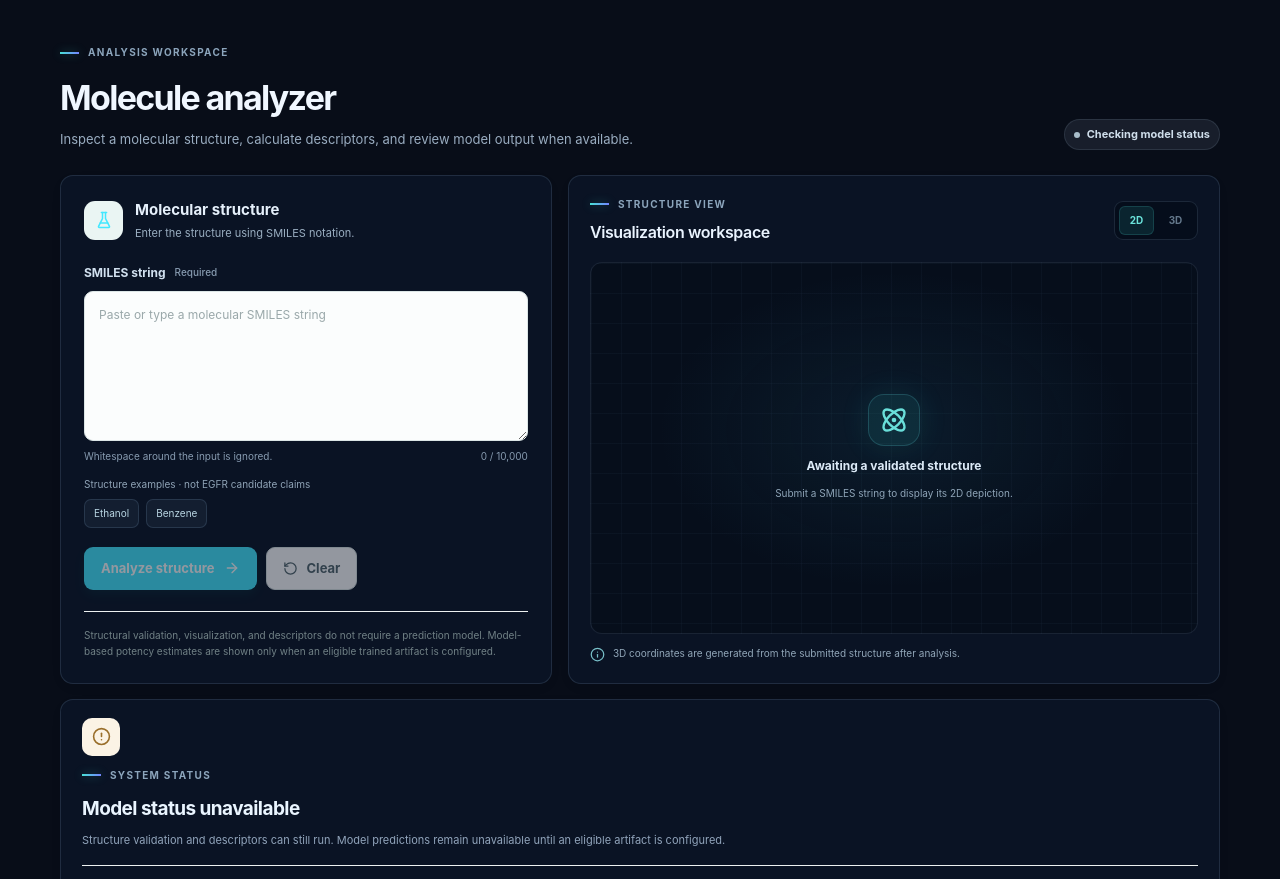
Test: AnalyzerPage › shows RDKit analysis without inventing a model prediction
This screenshot has width=1280, height=879.
Type "OCC" into the text box labelled "SMILES string Required". click: (306, 366)
box: x1=84 y1=291 x2=528 y2=441
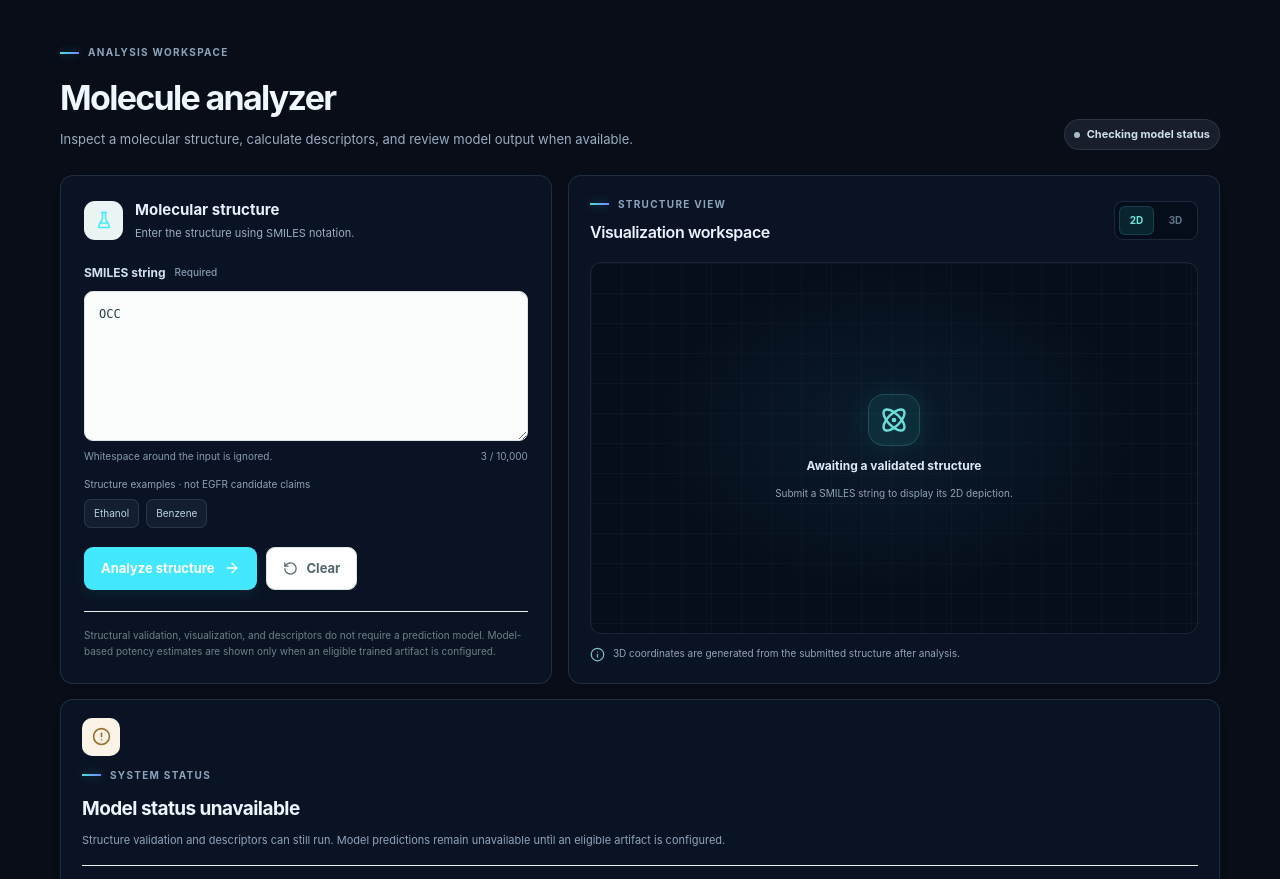
Click the button "Analyze structure". click: (170, 568)
box: x1=84 y1=547 x2=256 y2=590
(page scrolled)
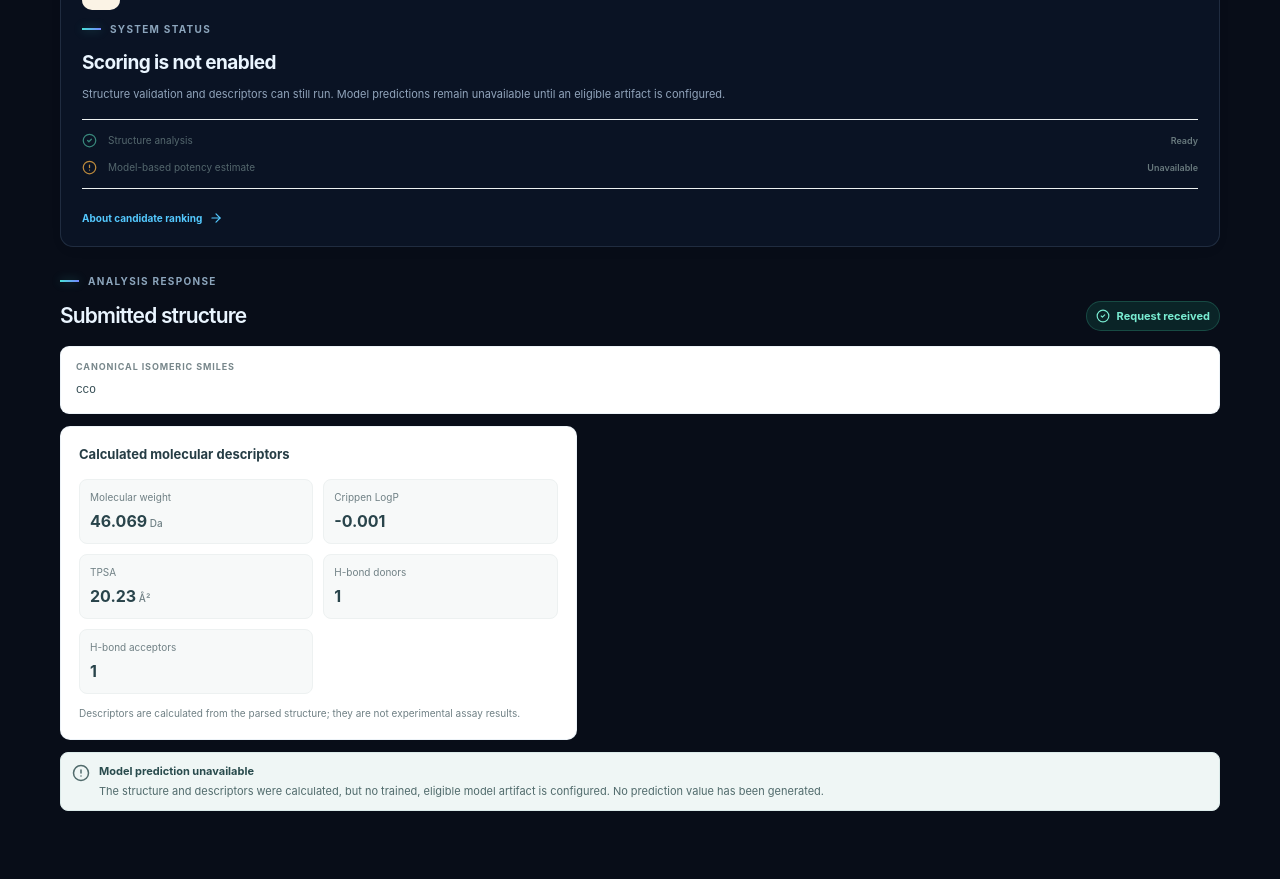
Check: the heading "Calculated molecular descriptors" is shown, box x1=79 y1=446 x2=290 y2=462
Check: the text "46.069" is shown, box x1=90 y1=511 x2=147 y2=531
Check: the text "Model prediction unavailable" is shown, box x1=99 y1=764 x2=254 y2=778
